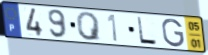1: (106, 14, 119, 44)
4: (25, 7, 45, 38)
9: (46, 9, 68, 40)
G: (160, 18, 186, 49)
L: (135, 16, 159, 47)
Q: (75, 11, 104, 42)
